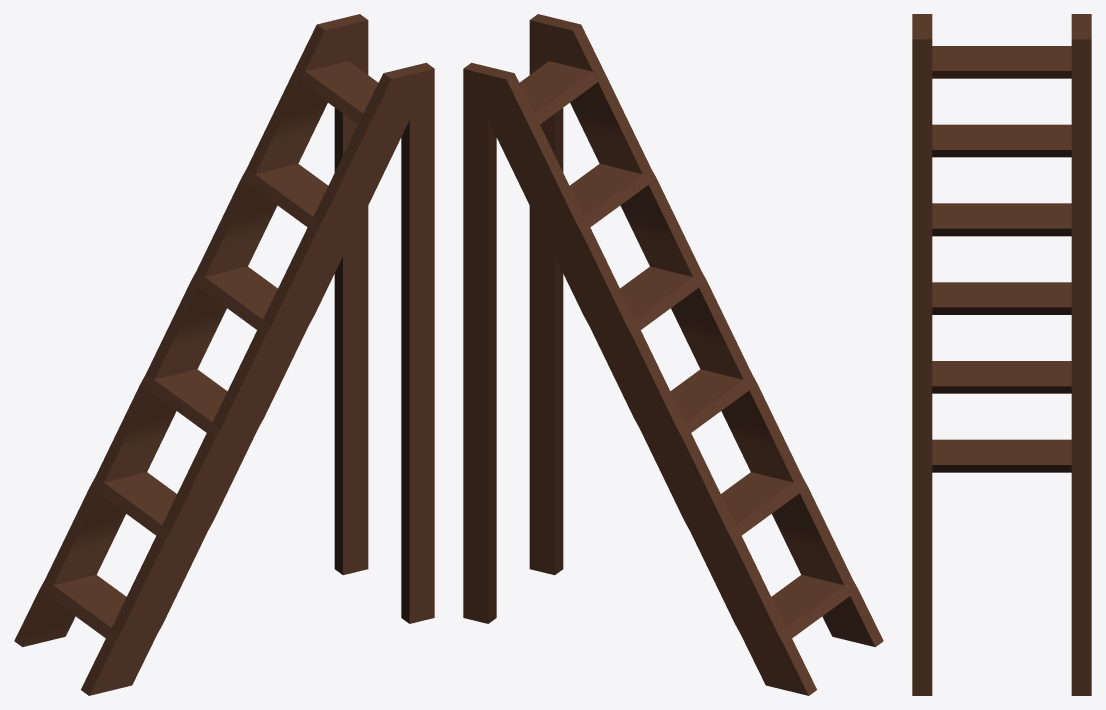
The model's file is decor_Ladder.fbx.
3 views of the same model, side by side, from view 1: azimuth 30°, elevation 25°; view 2: azimuth 150°, elevation 25°; view 3: azimuth 270°, elevation 25° (orthographic). The views are drawn at different scales.
Visible parts, largest first — view 1: Ladder; view 2: Ladder; view 3: Ladder.
Part boxes in pixels (x1,y1,x2,y2): Ladder: (14,14,434,695); Ladder: (463,14,883,695); Ladder: (912,14,1091,695).
Bounding box in the file's own units: 400 × 607 × 150.
Materials: 1 (1 with a texture image).
